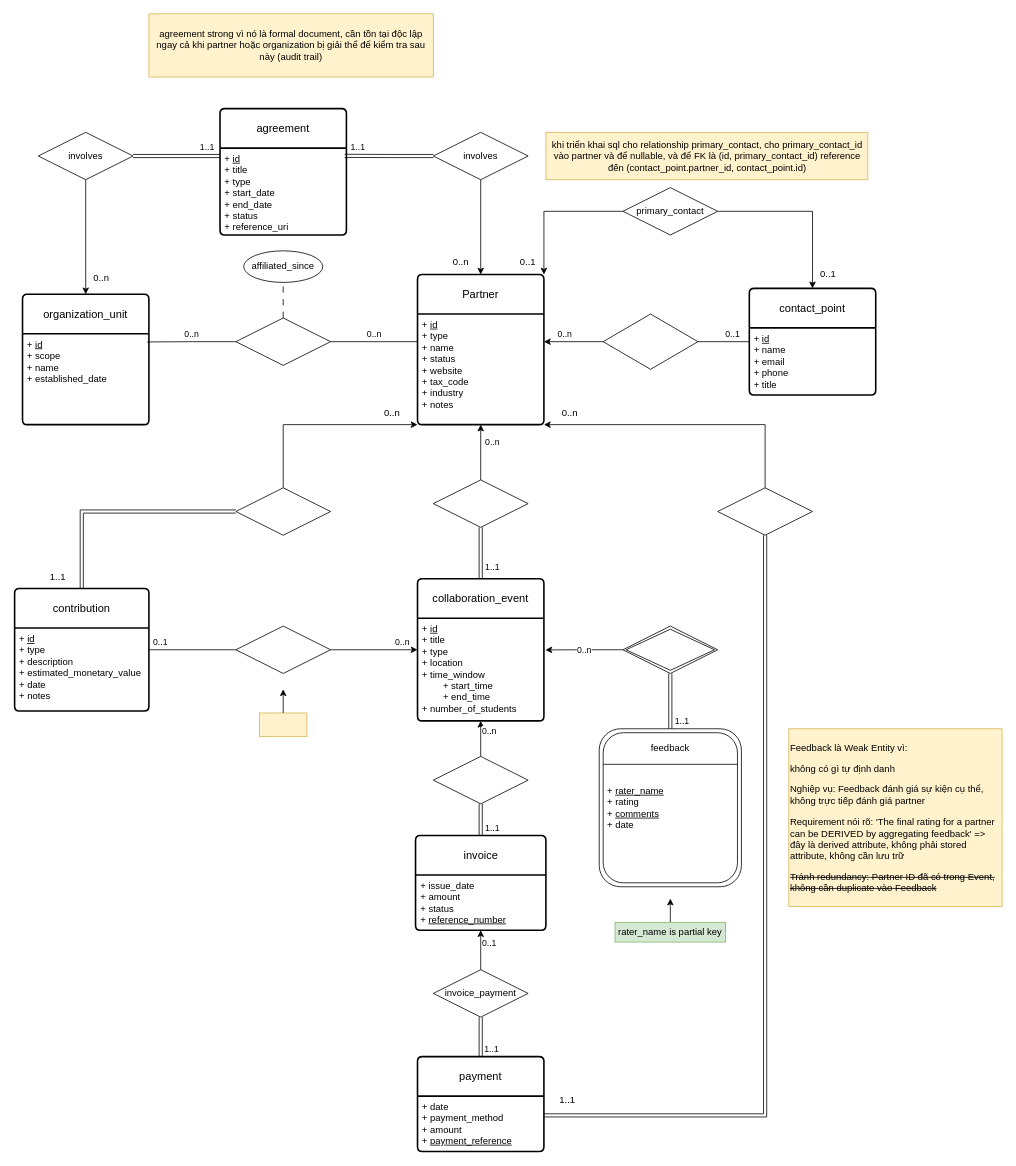
The diagram is 1016 pixels wide and 1166 high, and some of its shapes have lost their labels. The shapes that lost their labels are listed below. From the top down, each one's centre as x and y in pixels, then its label:
(283,341): affiliate
(650,341): has
(283,511): sponsor
(480,503): participate
(765,511): pay
(283,649): link
(670,649): event_feedback
(283,724): optional relationship
(480,780): generate
